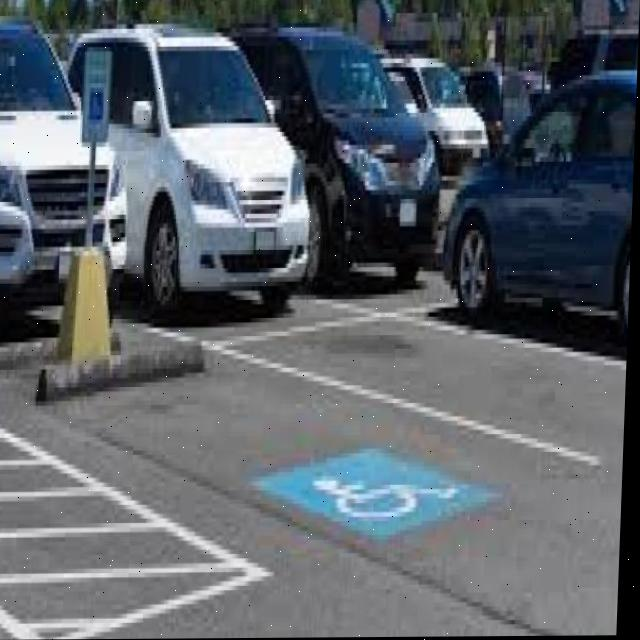symbol_of_access: (315, 463, 465, 524), (90, 87, 103, 122)
